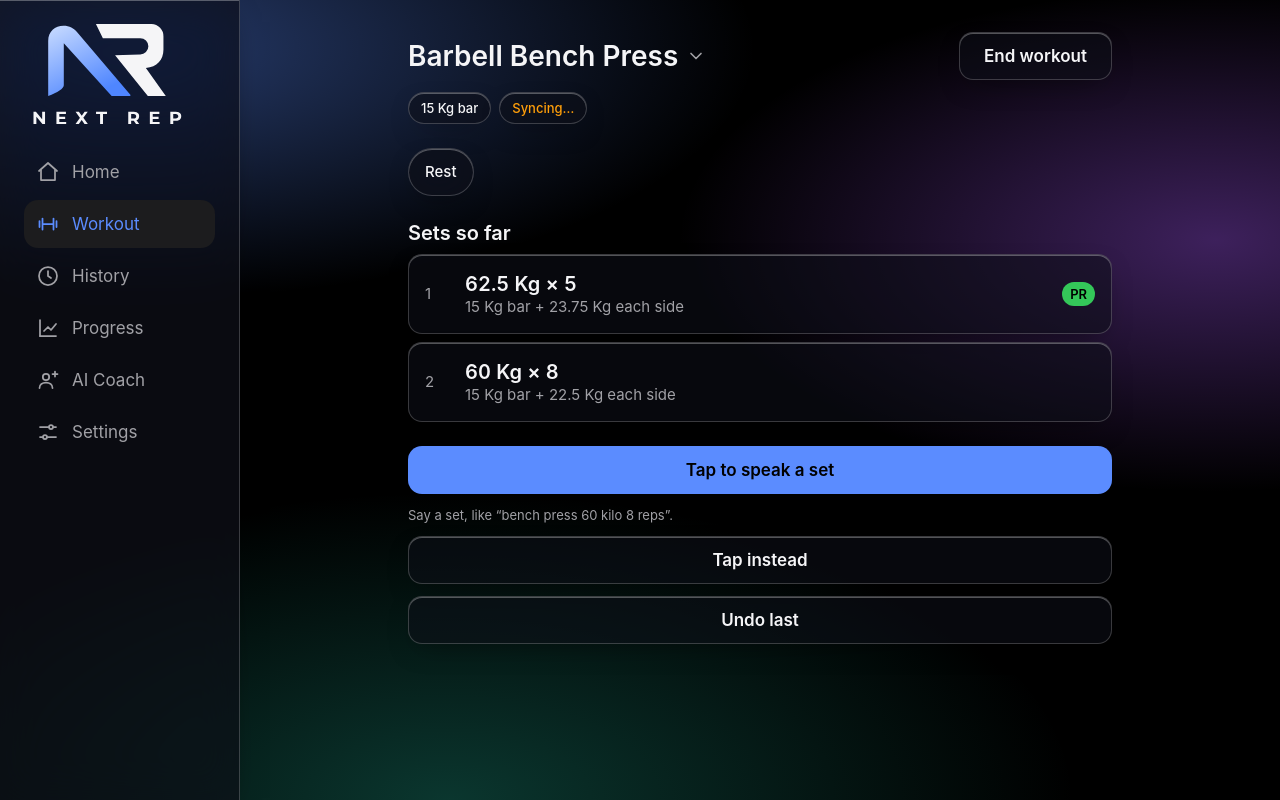
undo and personal records › shows the banner for a record that was hidden behind a later set once that set is undone
Expected: the element "Sets so far" is shown, [408,220,1112,422]
Expected: the number of pictures named "personal record" is 1, [1062,282,1095,306]
Click the button "Undo last" at (760, 620), box [408,596,1112,644]
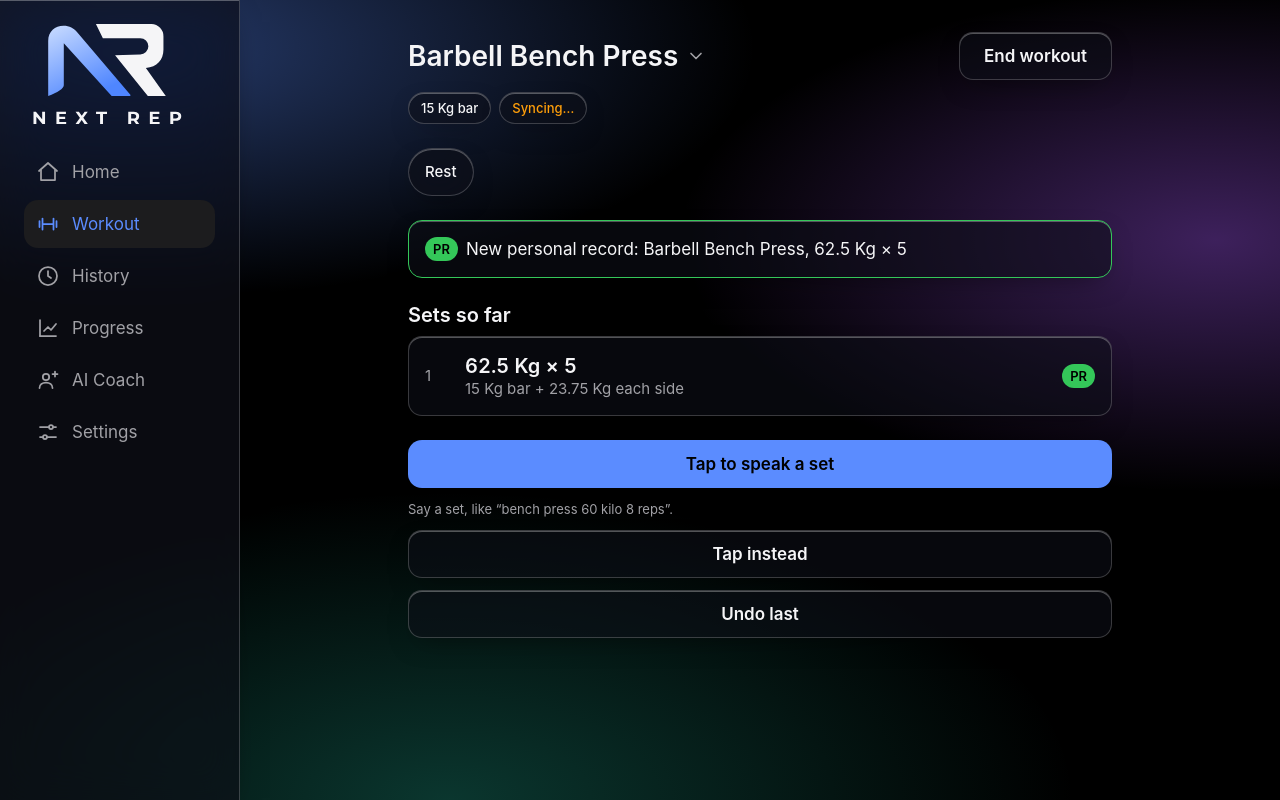
Result: the text "New personal record: Barbell Bench Press, 62.5 Kg × 5" is shown at [466,237,907,261]
